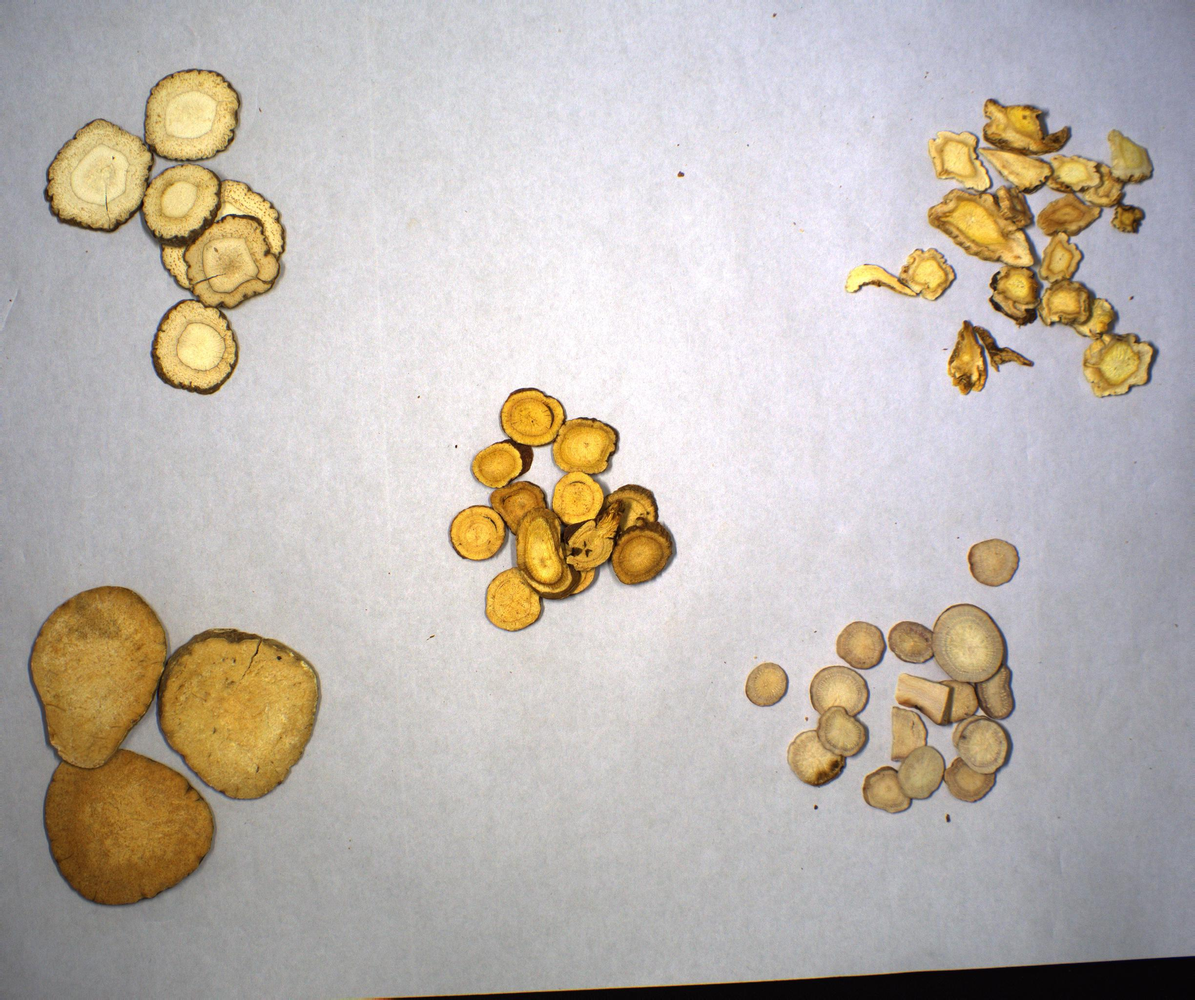baishao: (749, 537, 1020, 810)
baizhi: (37, 64, 284, 399)
gancaopian: (439, 382, 680, 633)
jiegeng: (844, 100, 1158, 400)
zexie: (21, 586, 319, 910)
